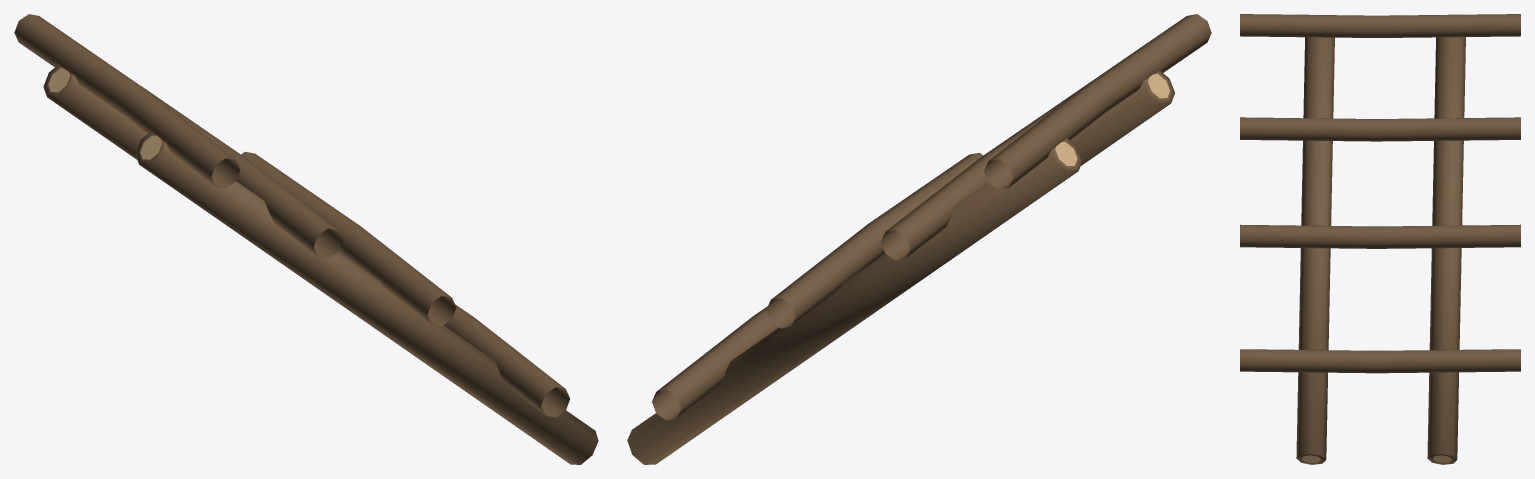
Rendered from rpgpp_ag_roof_support_01_6x3x3_half_b.fbx.
3 renders of one model, left to right at view 1: azimuth 30°, elevation 25°; view 2: azimuth 150°, elevation 25°; view 3: azimuth 270°, elevation 25°, orthographic. The views are drawn at different scales.
Parts seen in each view (by area): view 1: rpgpp_ag_roof_support_01_6x3x3_half_b; view 2: rpgpp_ag_roof_support_01_6x3x3_half_b; view 3: rpgpp_ag_roof_support_01_6x3x3_half_b.
Boxes of the visible parts, x1,y1,x2,y2 form: rpgpp_ag_roof_support_01_6x3x3_half_b: (14, 14, 598, 464); rpgpp_ag_roof_support_01_6x3x3_half_b: (627, 14, 1211, 464); rpgpp_ag_roof_support_01_6x3x3_half_b: (1240, 14, 1520, 464).
Size of the model in its own units: 3.96 by 3.69 by 3.
